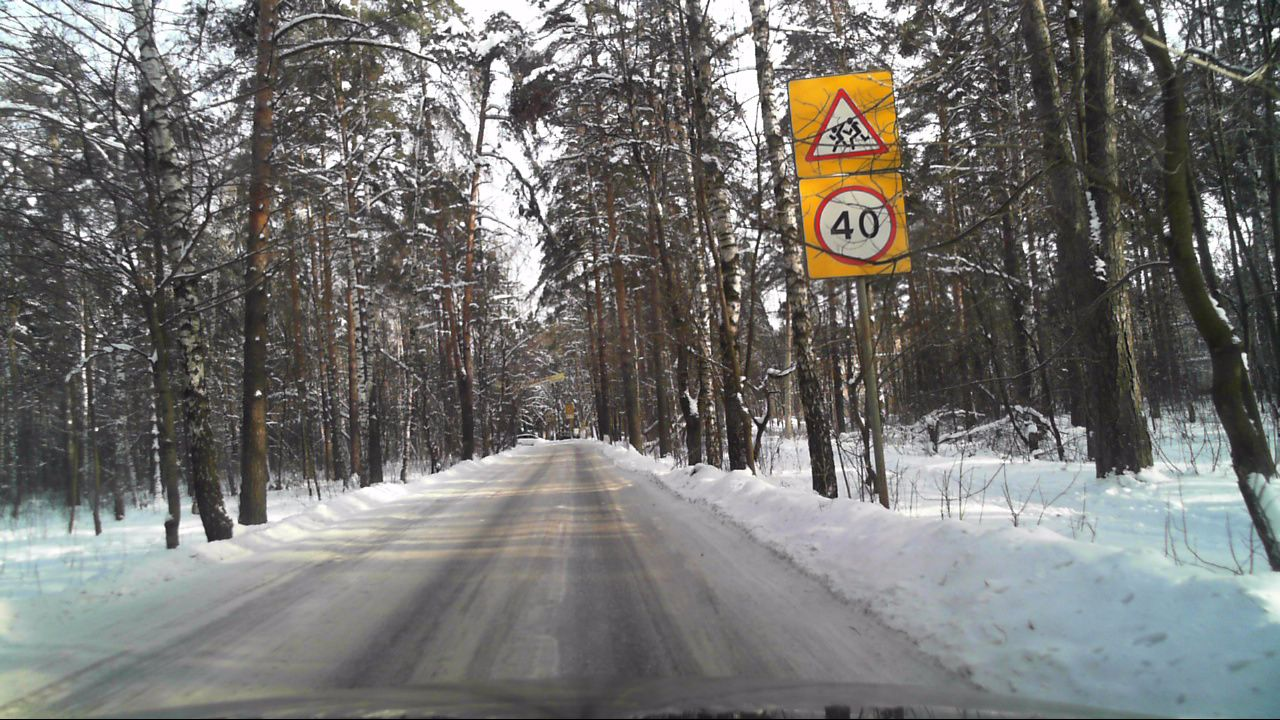speed_warning_40: (800, 175, 912, 279)
